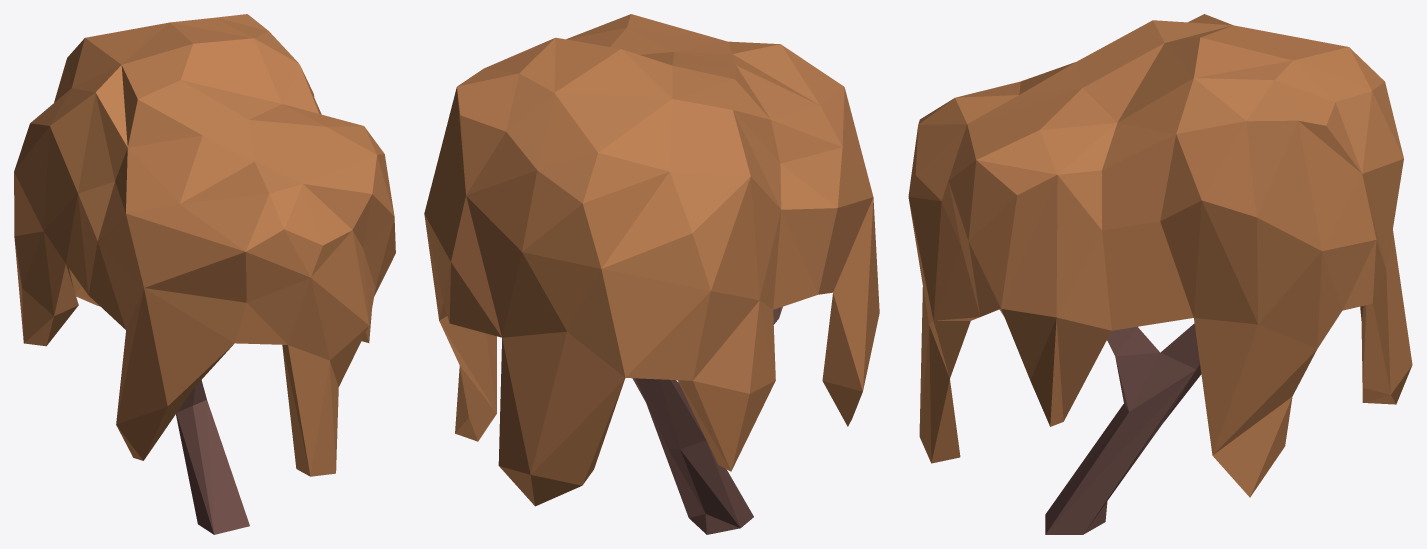
File: Willow_Autumn_4.lod2.glb
3 renders of one model, left to right at view 1: azimuth 30°, elevation 25°; view 2: azimuth 150°, elevation 25°; view 3: azimuth 270°, elevation 25°, orthographic. The views are drawn at different scales.
Visible parts, largest first — view 1: Willow_Autumn_4; view 2: Willow_Autumn_4; view 3: Willow_Autumn_4.
Boxes of the visible parts, box(x1,y1,x2,y2) form: Willow_Autumn_4: box(14, 14, 395, 534); Willow_Autumn_4: box(424, 14, 879, 534); Willow_Autumn_4: box(908, 14, 1412, 534).
Size of the model in its own units: 2.16 by 3.38 by 3.07.
